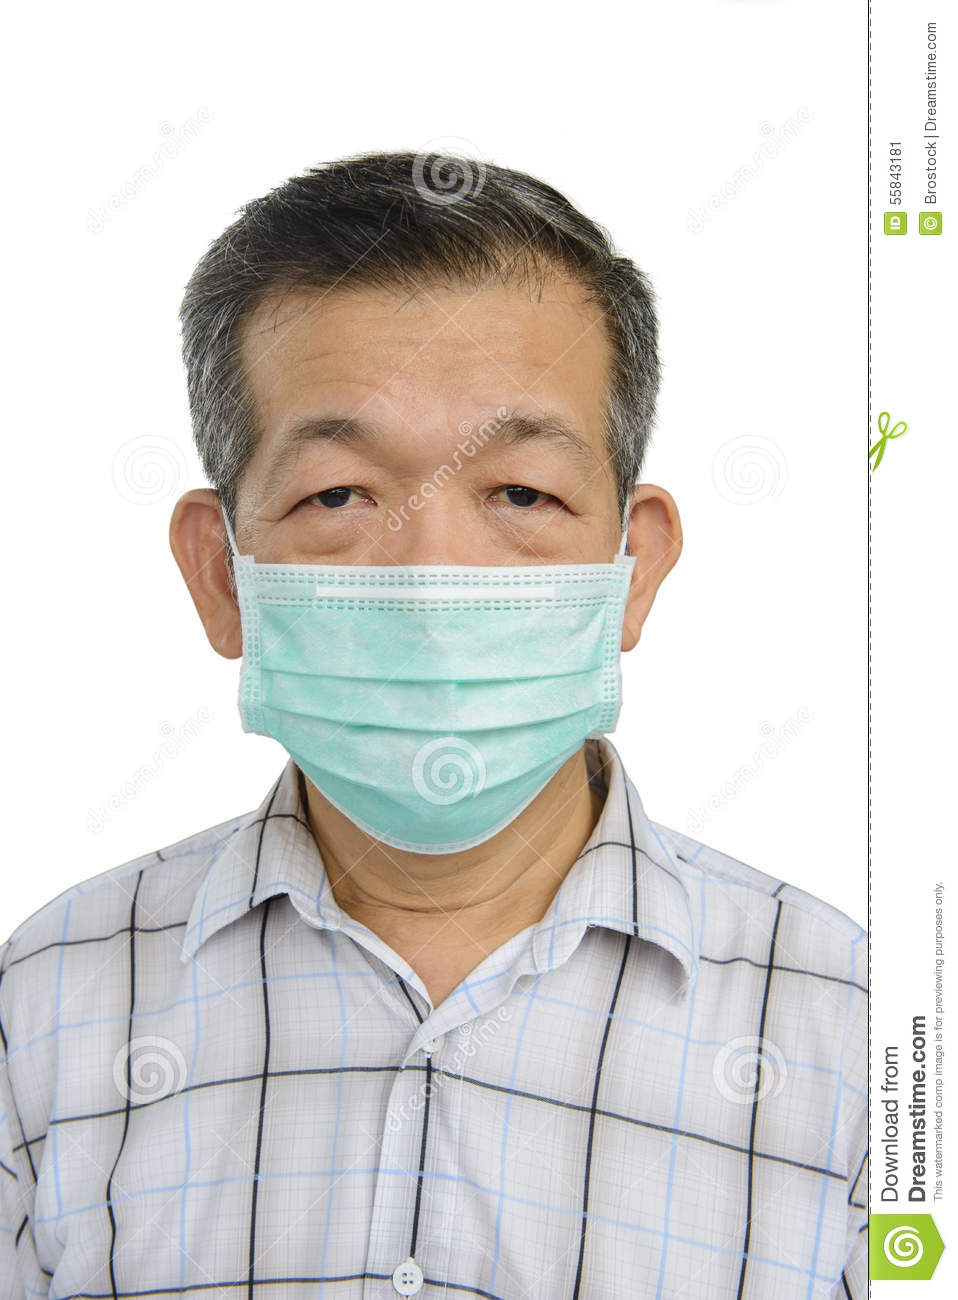mask: (236, 566, 624, 852)
